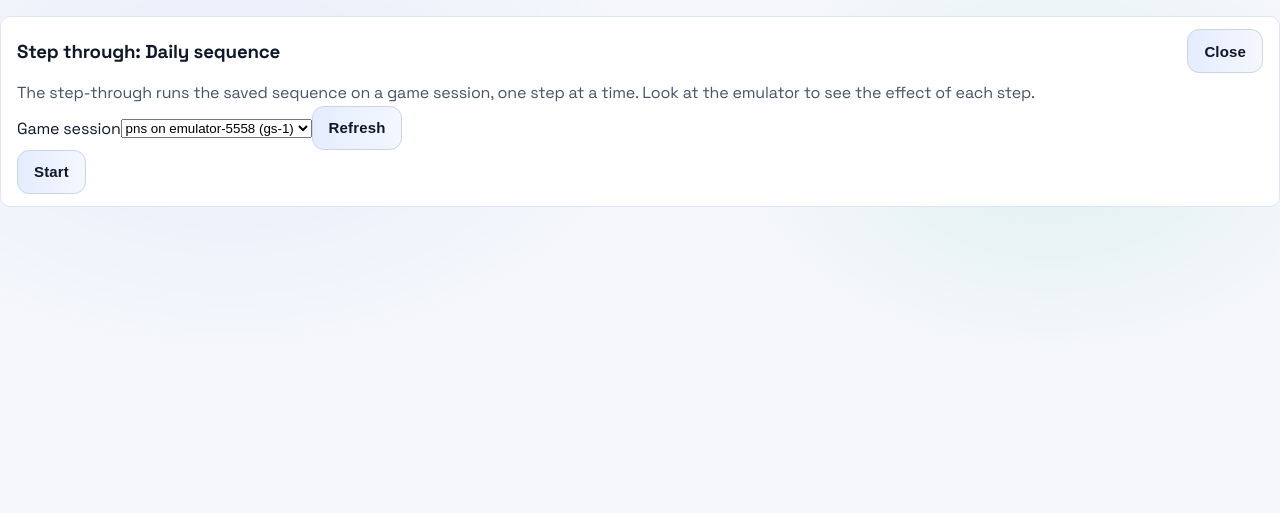
Scenario: StepThroughPanel history, restart, values, and queue › does not offer Pause queue while a firing runs
Click the button "Start": (51, 172) x1=17 y1=150 x2=86 y2=194
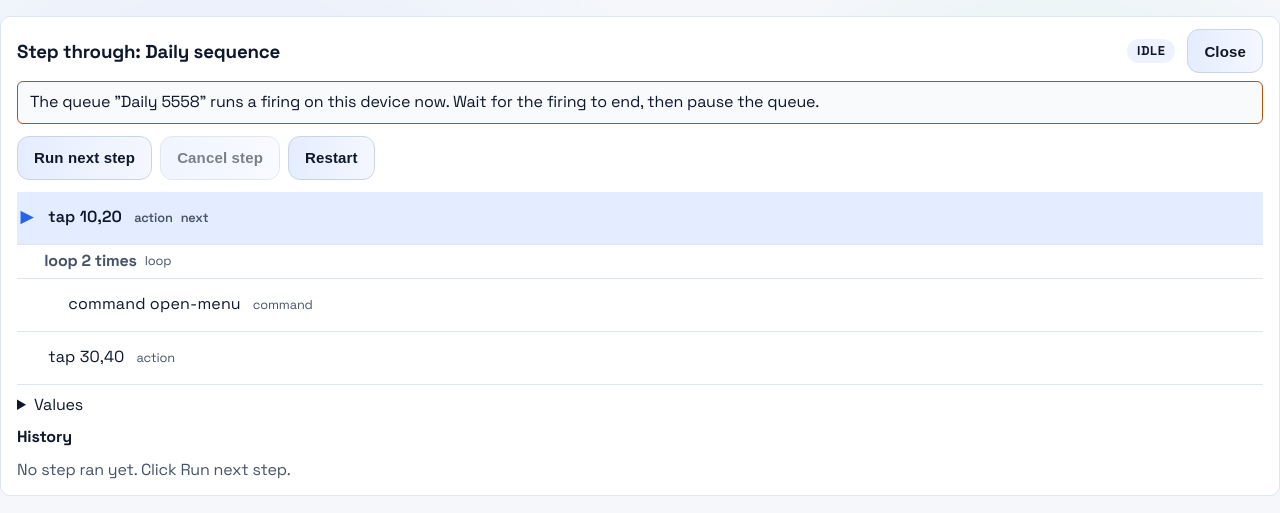
Expected: the list named "Steps" is shown, x1=17 y1=192 x2=1263 y2=385
Expected: the text "runs a firing on this device now" is shown, x1=200 y1=91 x2=819 y2=112
